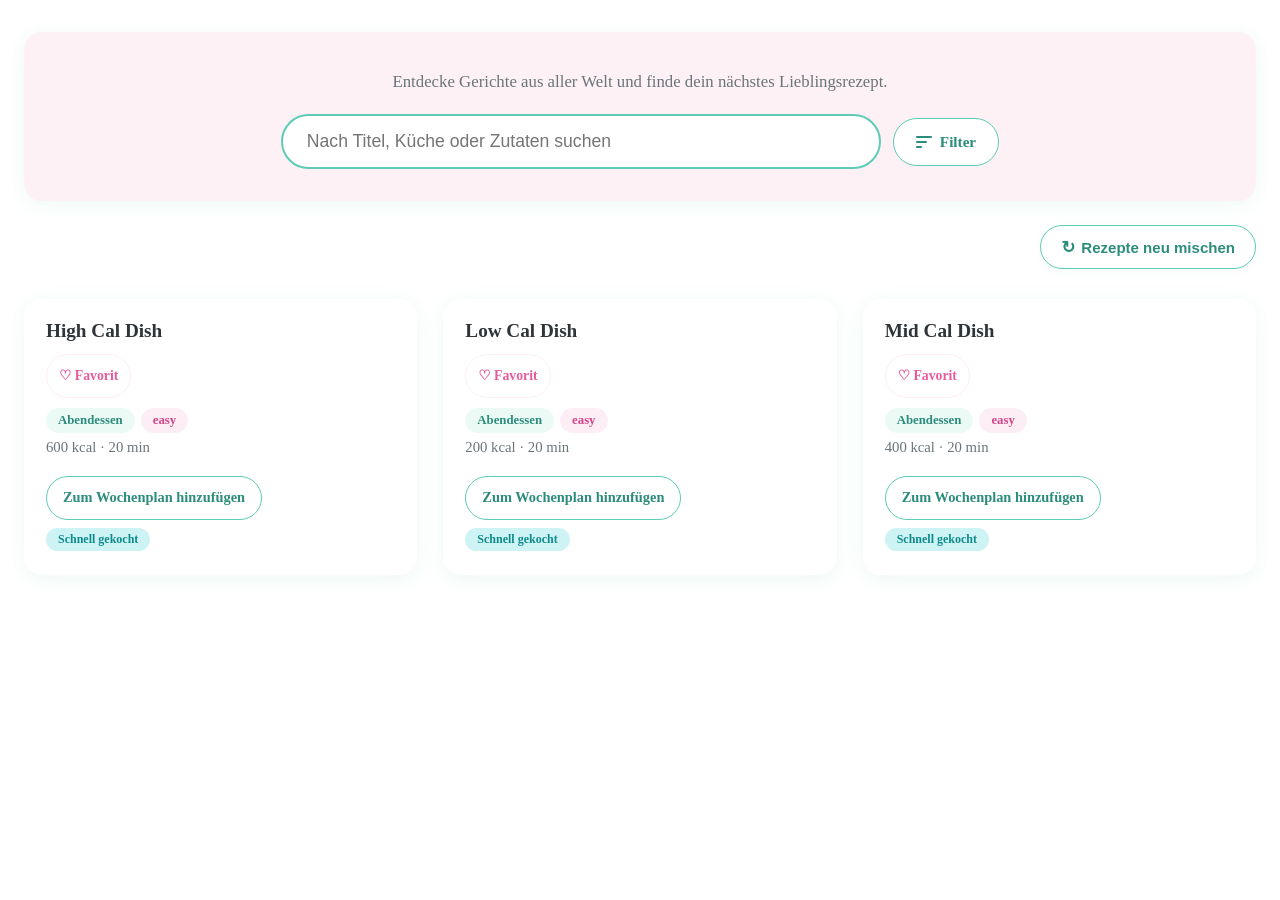
ApiRecipeList › sorts ascending by calories when "kalorienarm" is checked alone (via the automatic caloriesAsc sort)
# Filters live in a drawer now — open it before interacting with the checkboxes.
Click the button with class "filter-trigger": [946, 142] box [893,118,999,166]
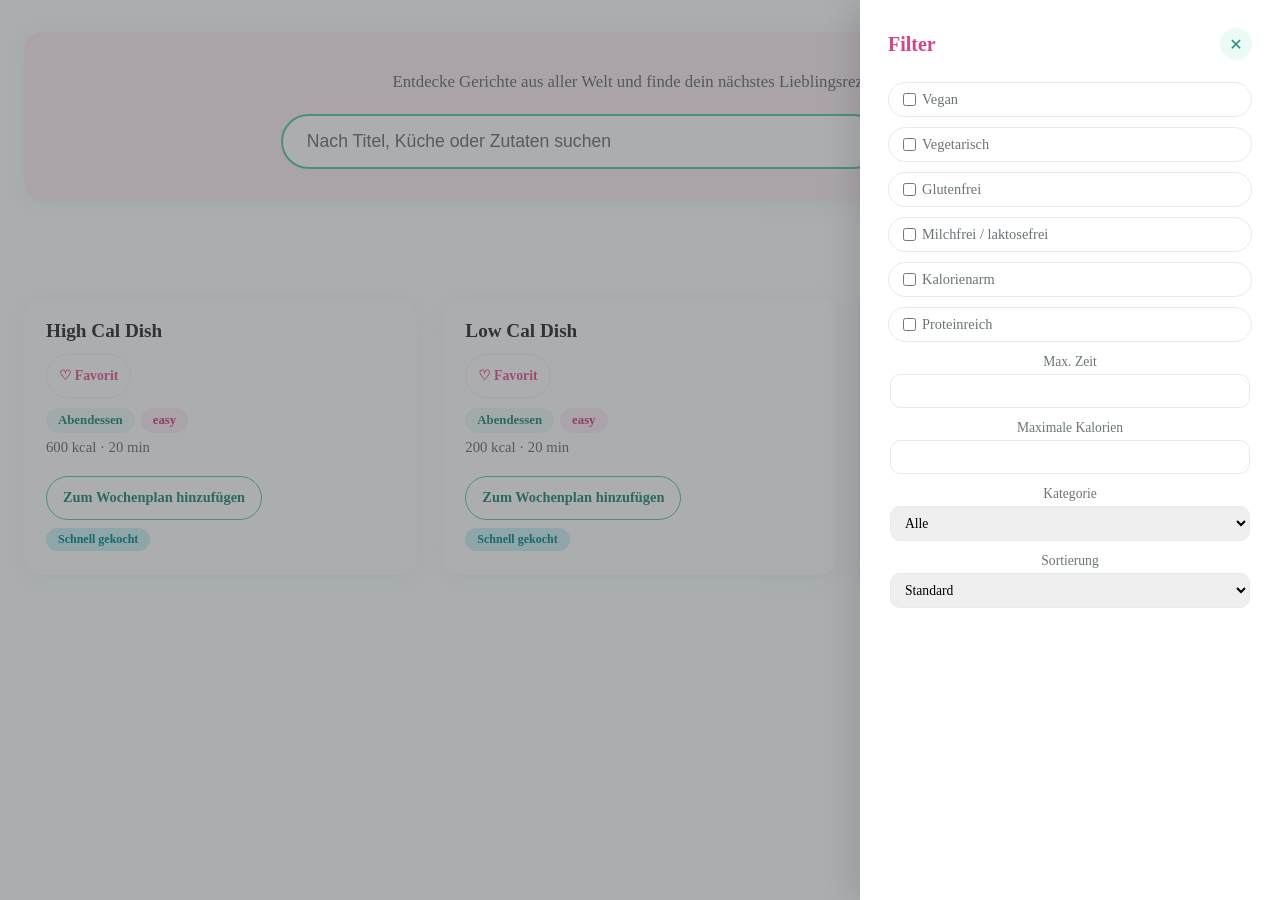
# Order in the template: vegan, vegetarian, glutenFree, lactoseFree, calorieConscious, highProtein.
Click the checkbox labelled "Kalorienarm": [910, 280] box [903,273,916,286]
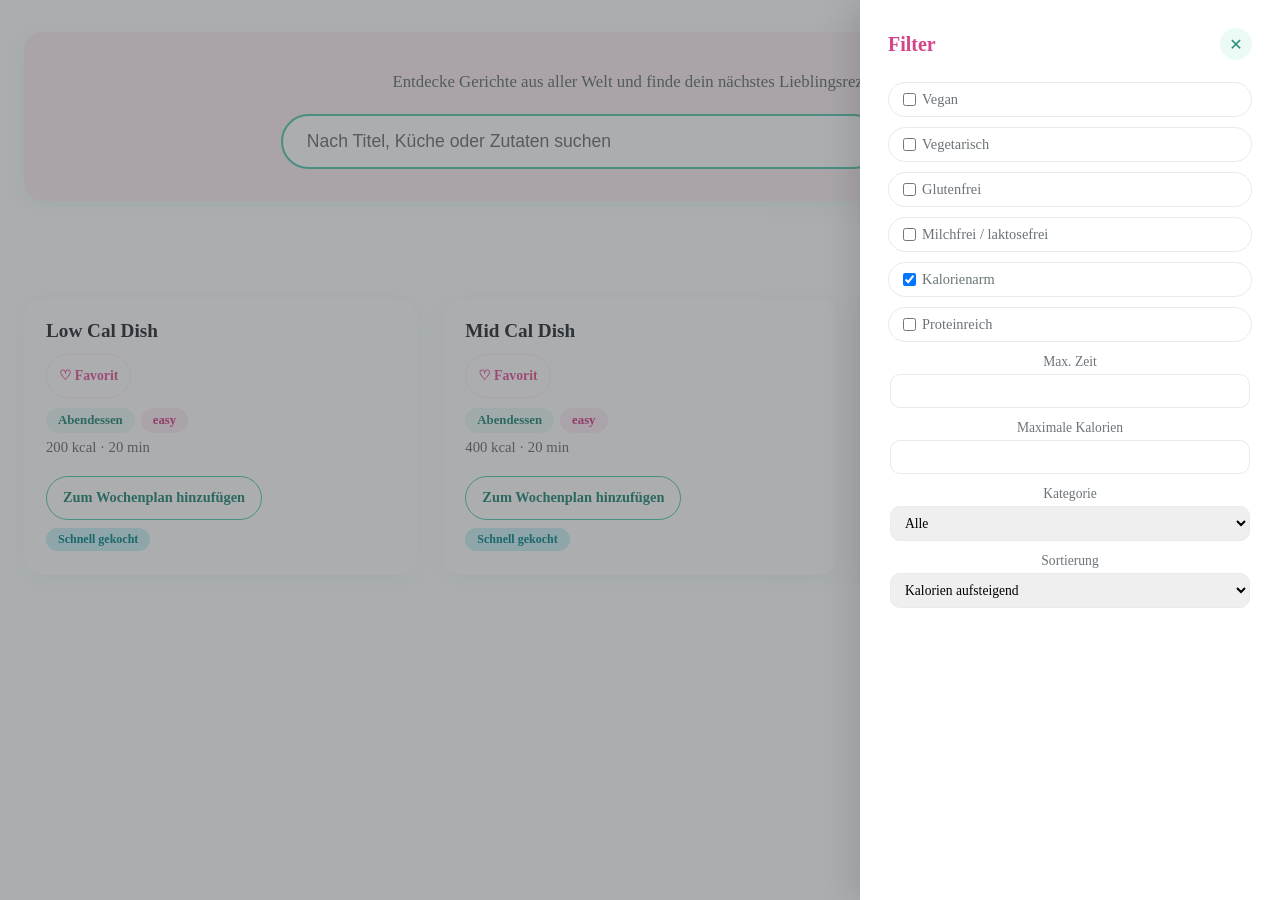
Now the elements with class "card-title" read "Low Cal Dish", "Mid Cal Dish", "High Cal Dish", in this order, box [46,320,158,341]; [465,320,575,341]; [885,320,1001,341]
